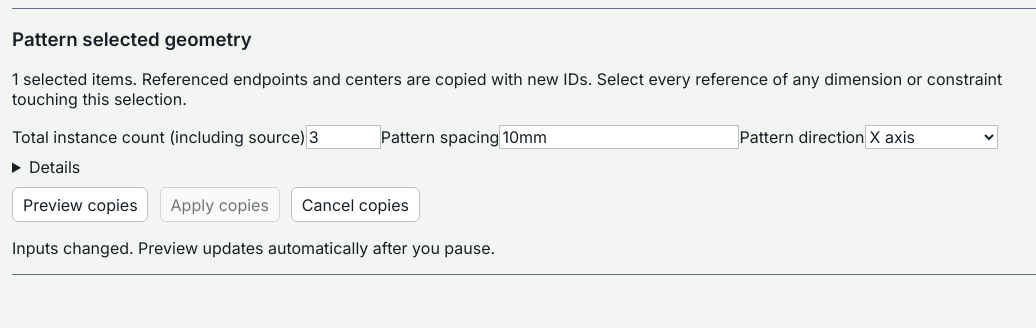
Scenario: recovers from a worker that ignores timeout cancellation and rejects its late proof
Click the button "Preview copies": click(80, 205) [12,187,148,222]
Wait 120000 ms
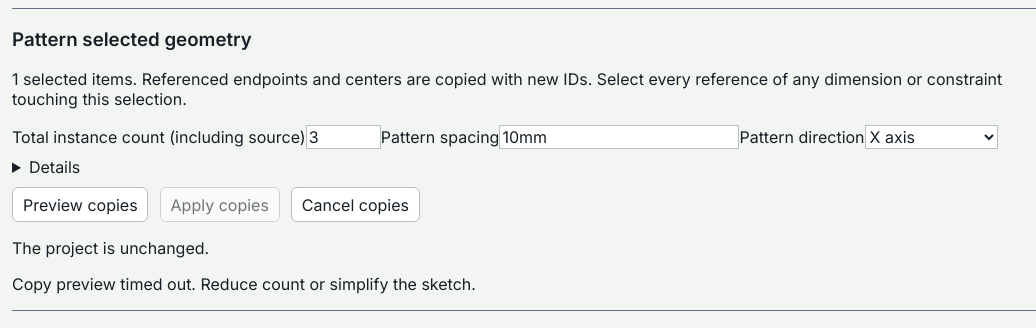
Expected: the button "Apply copies" is disabled, [160,187,280,222]
Expected: the message "Copy preview timed out. Reduce count or simplify the sketch." is shown, [12,274,476,294]
